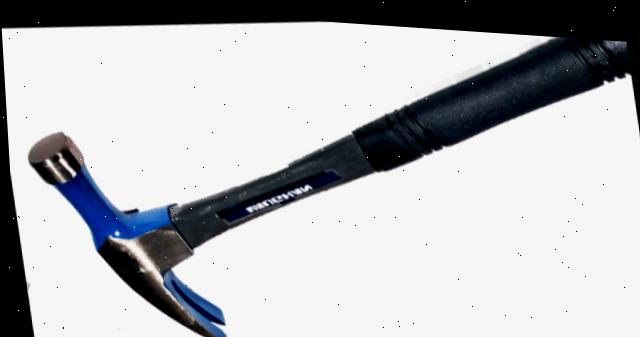hammer: (1, 0, 640, 337)
